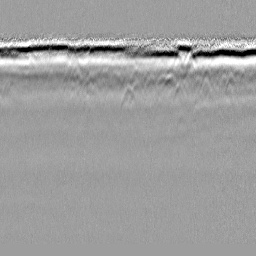cavity: (120, 82, 136, 109)
